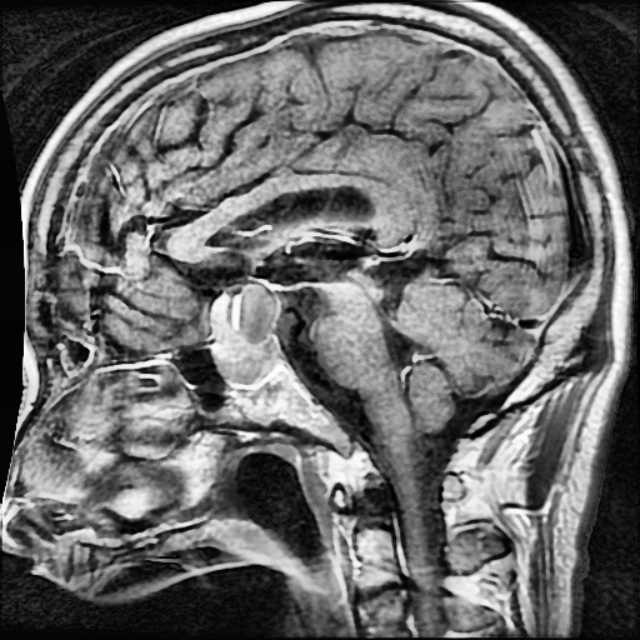Pituitary: (213, 278, 283, 383)
